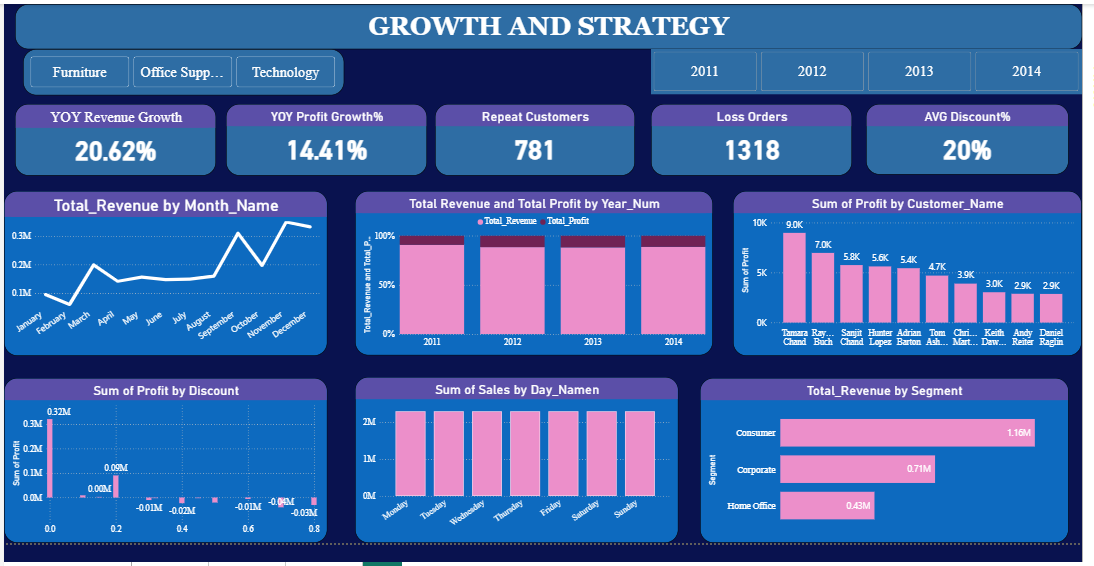

This screenshot's page, from the dashboard's own definition file:
{"tool":"powerbi","page":{"name":"Page 2","canvas":[2000,1000],"ordinal":1},"visuals":[{"type":"textbox","box":[20.4,0,1979.6,83.7],"z":0},{"type":"advancedSlicerVisual","fields":{"Values":["kalundusalestable.Year_Num"]},"box":[1200,83.7,800,83.7],"z":1},{"type":"card","title":"YOY Revenue Growth","fields":{"Values":["Measure Table.YOY Revenue Growth %"]},"box":[20.4,185.7,373.5,132.7],"z":2},{"type":"card","title":"YOY Profit Growth%","fields":{"Values":["Measure Table.YOY Profit Growth %"]},"box":[412.2,185.7,373.5,132.7],"z":3},{"type":"card","title":"Repeat Customers","fields":{"Values":["Measure Table.Repeat Customers"]},"box":[800,185.7,371.4,132.7],"z":4},{"type":"card","title":"Loss Orders","fields":{"Values":["Measure Table.Loss Orders"]},"box":[1200,185.7,373.5,132.7],"z":5},{"type":"card","title":"AVG Discount%","fields":{"Values":["Measure Table.Avg Discount %"]},"box":[1600,185.7,375.5,130.6],"z":6},{"type":"lineChart","fields":{"Category":["kalundusalestable.Month_Name"],"Y":["Measure Table.Total_Revenue"]},"box":[0,346.9,600,306.1],"z":7},{"type":"clusteredBarChart","fields":{"Category":["kalundusalestable.Segment"],"Y":["Measure Table.Total_Revenue"]},"box":[1291.8,693.9,683.7,306.1],"z":9},{"type":"clusteredColumnChart","fields":{"Category":["kalundusalestable.Customer_Name"],"Y":["Sum(kalundusalestable.Profit)"]},"box":[1353.1,346.9,647,306.1],"z":11},{"type":"hundredPercentStackedColumnChart","title":"Total Revenue and Total Profit by Year_Num","fields":{"Category":["kalundusalestable.Year_Num"],"Y":["Measure Table.Total_Revenue","Measure Table.Total_Profit"]},"box":[651.1,347.8,664.4,305.5],"z":12},{"type":"clusteredColumnChart","fields":{"Category":["kalundusalestable.Discount"],"Y":["Sum(kalundusalestable.Profit)"]},"box":[0,693.9,600,306.1],"z":13},{"type":"clusteredColumnChart","fields":{"Category":["Day Sort Table.Day_Namen"],"Y":["Sum(kalundusalestable.Sales)"]},"box":[650.5,692.3,600,307.7],"z":14},{"type":"advancedSlicerVisual","fields":{"Values":["kalundusalestable.Category"]},"box":[34.7,83.7,595.9,85.7],"z":15}]}

Visuals, with their boxes on the page's 2000x1000 design canvas (x1, y1, x2, y2). These are canvas units, not pixel positions in the 1094x566 screenshot, which may show the page scaled, cropped or inside an application window:
textbox: {"x1": 20, "y1": 0, "x2": 2000, "y2": 84}
advancedSlicerVisual - kalundusalestable.Year_Num: {"x1": 1200, "y1": 84, "x2": 2000, "y2": 167}
"YOY Revenue Growth" card: {"x1": 20, "y1": 186, "x2": 394, "y2": 318}
"YOY Profit Growth%" card: {"x1": 412, "y1": 186, "x2": 786, "y2": 318}
"Repeat Customers" card: {"x1": 800, "y1": 186, "x2": 1171, "y2": 318}
"Loss Orders" card: {"x1": 1200, "y1": 186, "x2": 1574, "y2": 318}
"AVG Discount%" card: {"x1": 1600, "y1": 186, "x2": 1976, "y2": 316}
lineChart - kalundusalestable.Month_Name x Measure Table.Total_Revenue: {"x1": 0, "y1": 347, "x2": 600, "y2": 653}
clusteredBarChart - kalundusalestable.Segment x Measure Table.Total_Revenue: {"x1": 1292, "y1": 694, "x2": 1976, "y2": 1000}
clusteredColumnChart - kalundusalestable.Customer_Name x Sum(kalundusalestable.Profit): {"x1": 1353, "y1": 347, "x2": 2000, "y2": 653}
"Total Revenue and Total Profit by Year_Num" hundredPercentStackedColumnChart: {"x1": 651, "y1": 348, "x2": 1316, "y2": 653}
clusteredColumnChart - kalundusalestable.Discount x Sum(kalundusalestable.Profit): {"x1": 0, "y1": 694, "x2": 600, "y2": 1000}
clusteredColumnChart - Day Sort Table.Day_Namen x Sum(kalundusalestable.Sales): {"x1": 650, "y1": 692, "x2": 1250, "y2": 1000}
advancedSlicerVisual - kalundusalestable.Category: {"x1": 35, "y1": 84, "x2": 631, "y2": 169}
